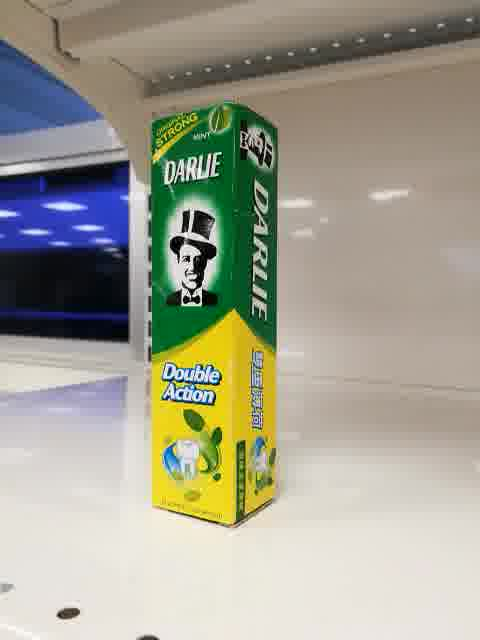toothpaste: (152, 102, 280, 531)
